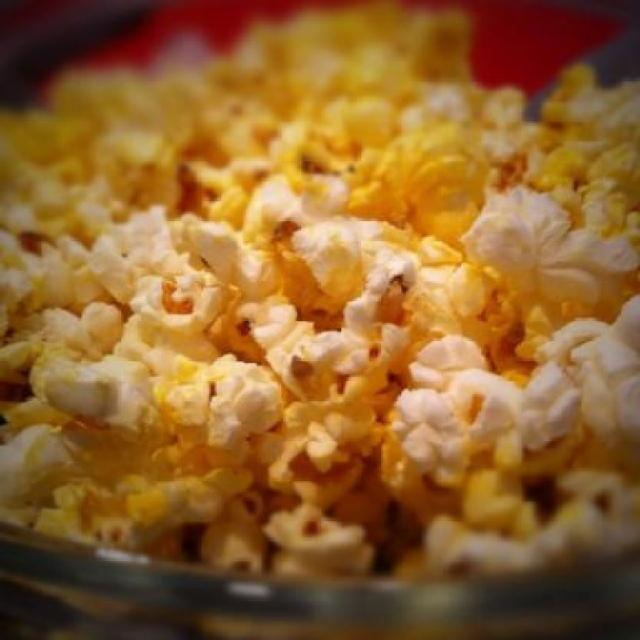Popcorn: (3, 6, 640, 590)
